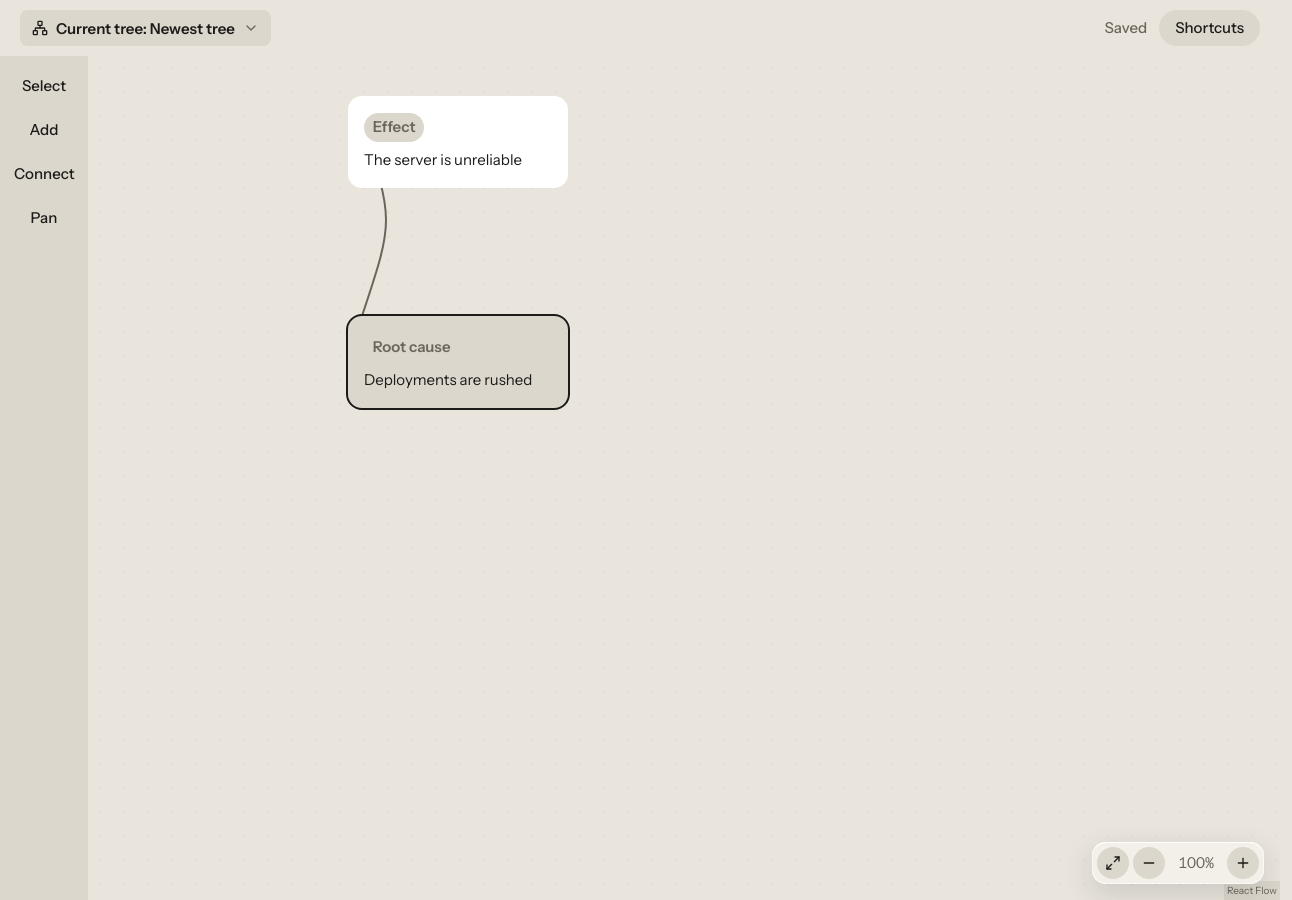
CrtWorkspace tree lifecycle › 019-FR-003 exposes the integrated tree management menu for the loaded workspace
The width and height of the screenshot is (1292, 900).
Click the button "Current tree: Newest tree" at (145,28), box x1=20 y1=10 x2=271 y2=46
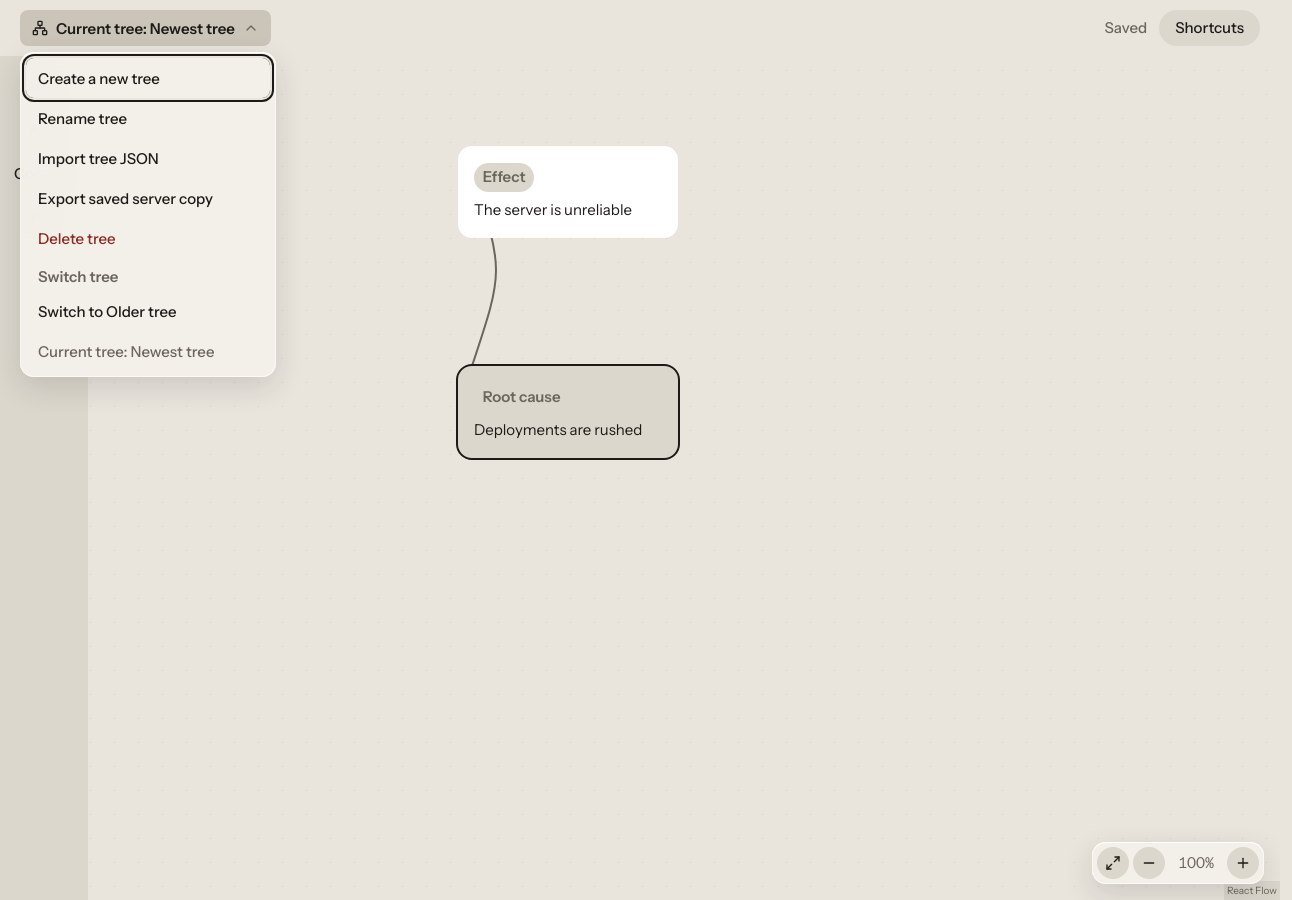
Check: the menu named "Tree menu" is shown, box x1=20 y1=52 x2=276 y2=377
Check: the menu item "Rename tree" is enabled, box x1=26 y1=98 x2=270 y2=138
Check: the menu item "Export saved server copy" is enabled, box x1=26 y1=178 x2=270 y2=218
